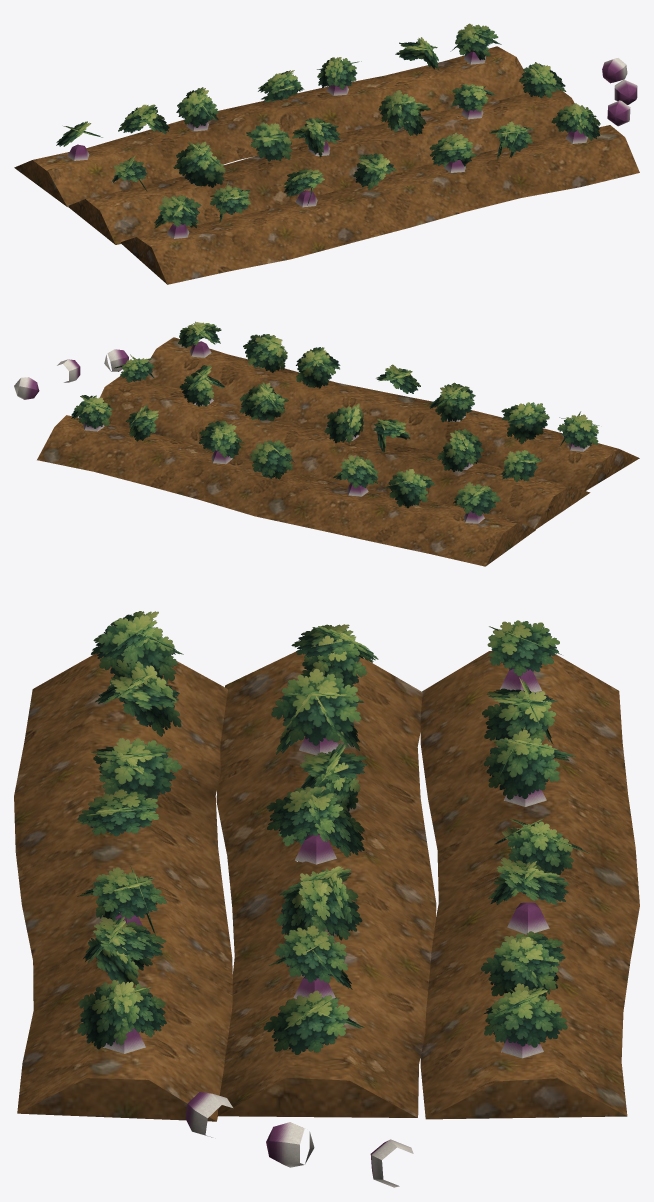
Rendered from camp_turnip_rows.glb.
3 renders of one model, top to bottom at view 1: azimuth 30°, elevation 25°; view 2: azimuth 150°, elevation 25°; view 3: azimuth 270°, elevation 25°, orthographic. The views are drawn at different scales.
Parts seen in each view (by area): view 1: camp_turnip_rows; view 2: camp_turnip_rows; view 3: camp_turnip_rows.
Boxes of the visible parts, bbox=[...] form: camp_turnip_rows: bbox=[14, 23, 639, 284]; camp_turnip_rows: bbox=[14, 321, 639, 566]; camp_turnip_rows: bbox=[14, 611, 639, 1187].
Size of the model in its own units: 4.73 by 0.5878 by 2.48.
3 materials, 3 textured.
